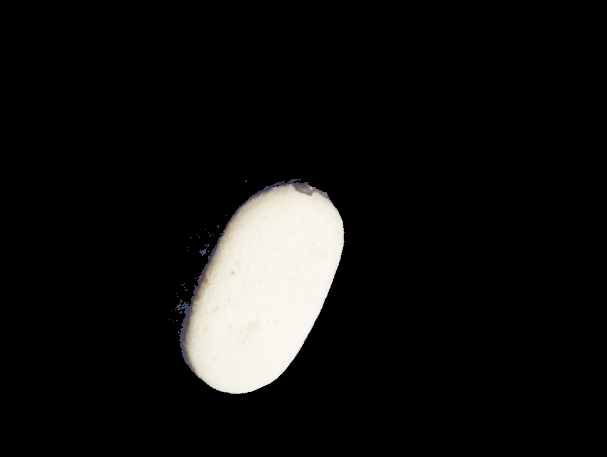test: (125, 150, 391, 412)
